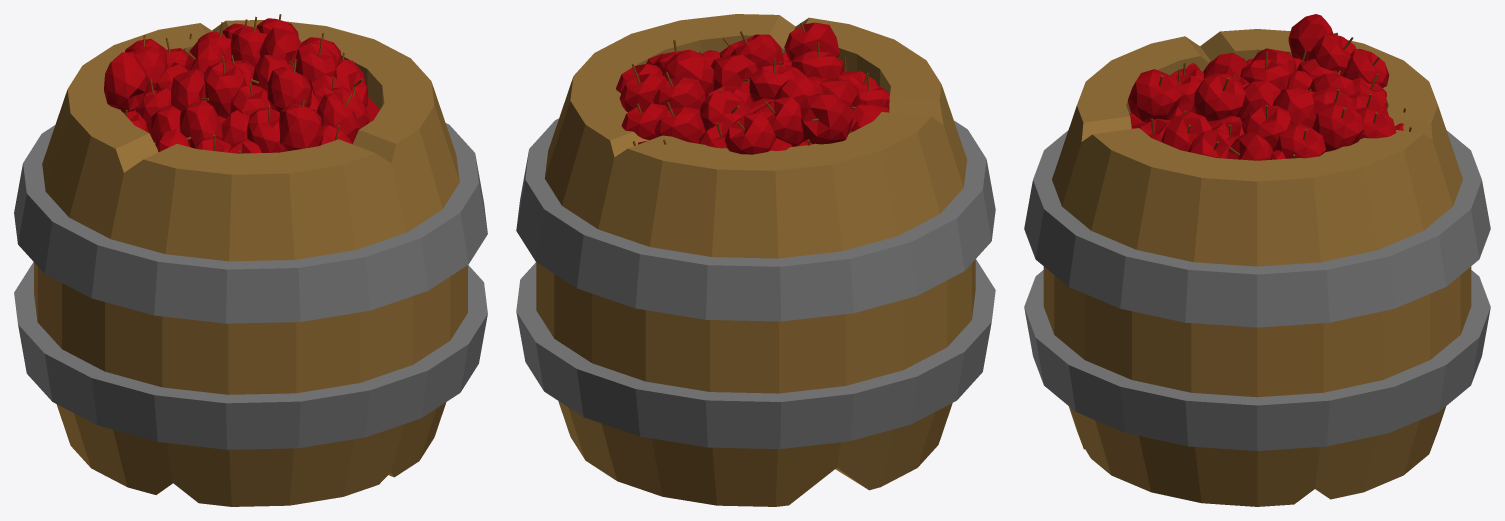
Rendered from Barrel_Fruit_Apples.fbx.
3 views of the same model, side by side, from view 1: azimuth 30°, elevation 25°; view 2: azimuth 150°, elevation 25°; view 3: azimuth 270°, elevation 25° (orthographic). The views are drawn at different scales.
Parts seen in each view (by area): view 1: Barrel1.002, Apples.106, Apples.098, Apples.003, Apples.046, Apples.007, Apples.009, Apples.029, Apples.035, Apples.019, Apples.041, Apples.045 (+9 smaller); view 2: Barrel1.002, Apples.106, Apples.105, Apples.098, Apples.103, Apples.087, Apples.021, Apples.045, Apples.041, Apples.033, Apples.046, Apples.003 (+7 smaller); view 3: Barrel1.002, Apples.098, Apples.046, Apples.043, Apples.100, Apples.029, Apples.106, Apples.035, Apples.103, Apples.105, Apples.045, Apples.003 (+8 smaller).
Part boxes in pixels (x1=…): Barrel1.002: x1=14, y1=20, x2=487, y2=506; Apples.106: x1=104, y1=52, x2=149, y2=112; Apples.098: x1=279, y1=100, x2=323, y2=151; Apples.003: x1=203, y1=61, x2=246, y2=118; Apples.046: x1=267, y1=58, x2=311, y2=112; Apples.007: x1=179, y1=100, x2=222, y2=148; Apples.009: x1=246, y1=107, x2=286, y2=152; Apples.029: x1=295, y1=41, x2=337, y2=85; Apples.035: x1=317, y1=93, x2=360, y2=143; Apples.019: x1=171, y1=69, x2=206, y2=111; Apples.041: x1=230, y1=26, x2=267, y2=66; Apples.045: x1=259, y1=27, x2=301, y2=70; Barrel1.002: x1=516, y1=14, x2=995, y2=506; Apples.106: x1=800, y1=93, x2=853, y2=144; Apples.105: x1=725, y1=112, x2=776, y2=154; Apples.098: x1=784, y1=22, x2=839, y2=61; Apples.103: x1=759, y1=97, x2=805, y2=146; Apples.087: x1=654, y1=107, x2=705, y2=143; Apples.021: x1=700, y1=91, x2=750, y2=131; Apples.045: x1=662, y1=50, x2=713, y2=95; Apples.041: x1=653, y1=77, x2=705, y2=110; Apples.033: x1=711, y1=54, x2=758, y2=95; Apples.046: x1=730, y1=31, x2=783, y2=69; Apples.003: x1=749, y1=65, x2=800, y2=102; Barrel1.002: x1=1024, y1=29, x2=1490, y2=506; Apples.098: x1=1128, y1=69, x2=1181, y2=122; Apples.046: x1=1193, y1=73, x2=1245, y2=121; Apples.043: x1=1312, y1=101, x2=1364, y2=151; Apples.100: x1=1273, y1=123, x2=1325, y2=158; Apples.029: x1=1242, y1=105, x2=1292, y2=150; Apples.106: x1=1288, y1=14, x2=1337, y2=61; Apples.035: x1=1161, y1=112, x2=1211, y2=151; Apples.103: x1=1308, y1=33, x2=1356, y2=75; Apples.105: x1=1342, y1=49, x2=1389, y2=87; Apples.045: x1=1273, y1=88, x2=1316, y2=127; Apples.003: x1=1240, y1=59, x2=1289, y2=91.
Size of the model in its own units: 130 by 113 by 130.
